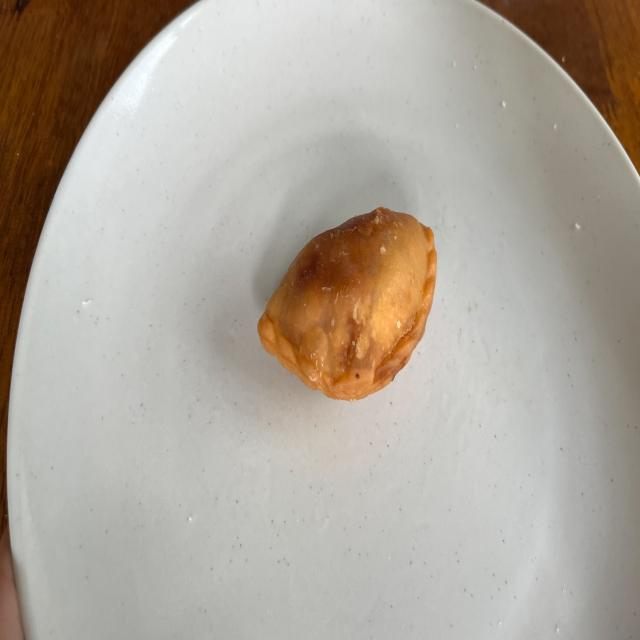karipap: (258, 207, 436, 402)
